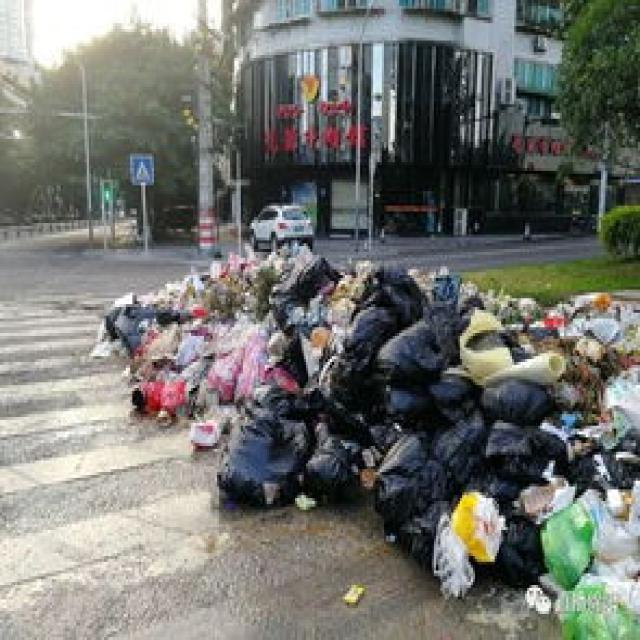garbage: (89, 238, 638, 634)
